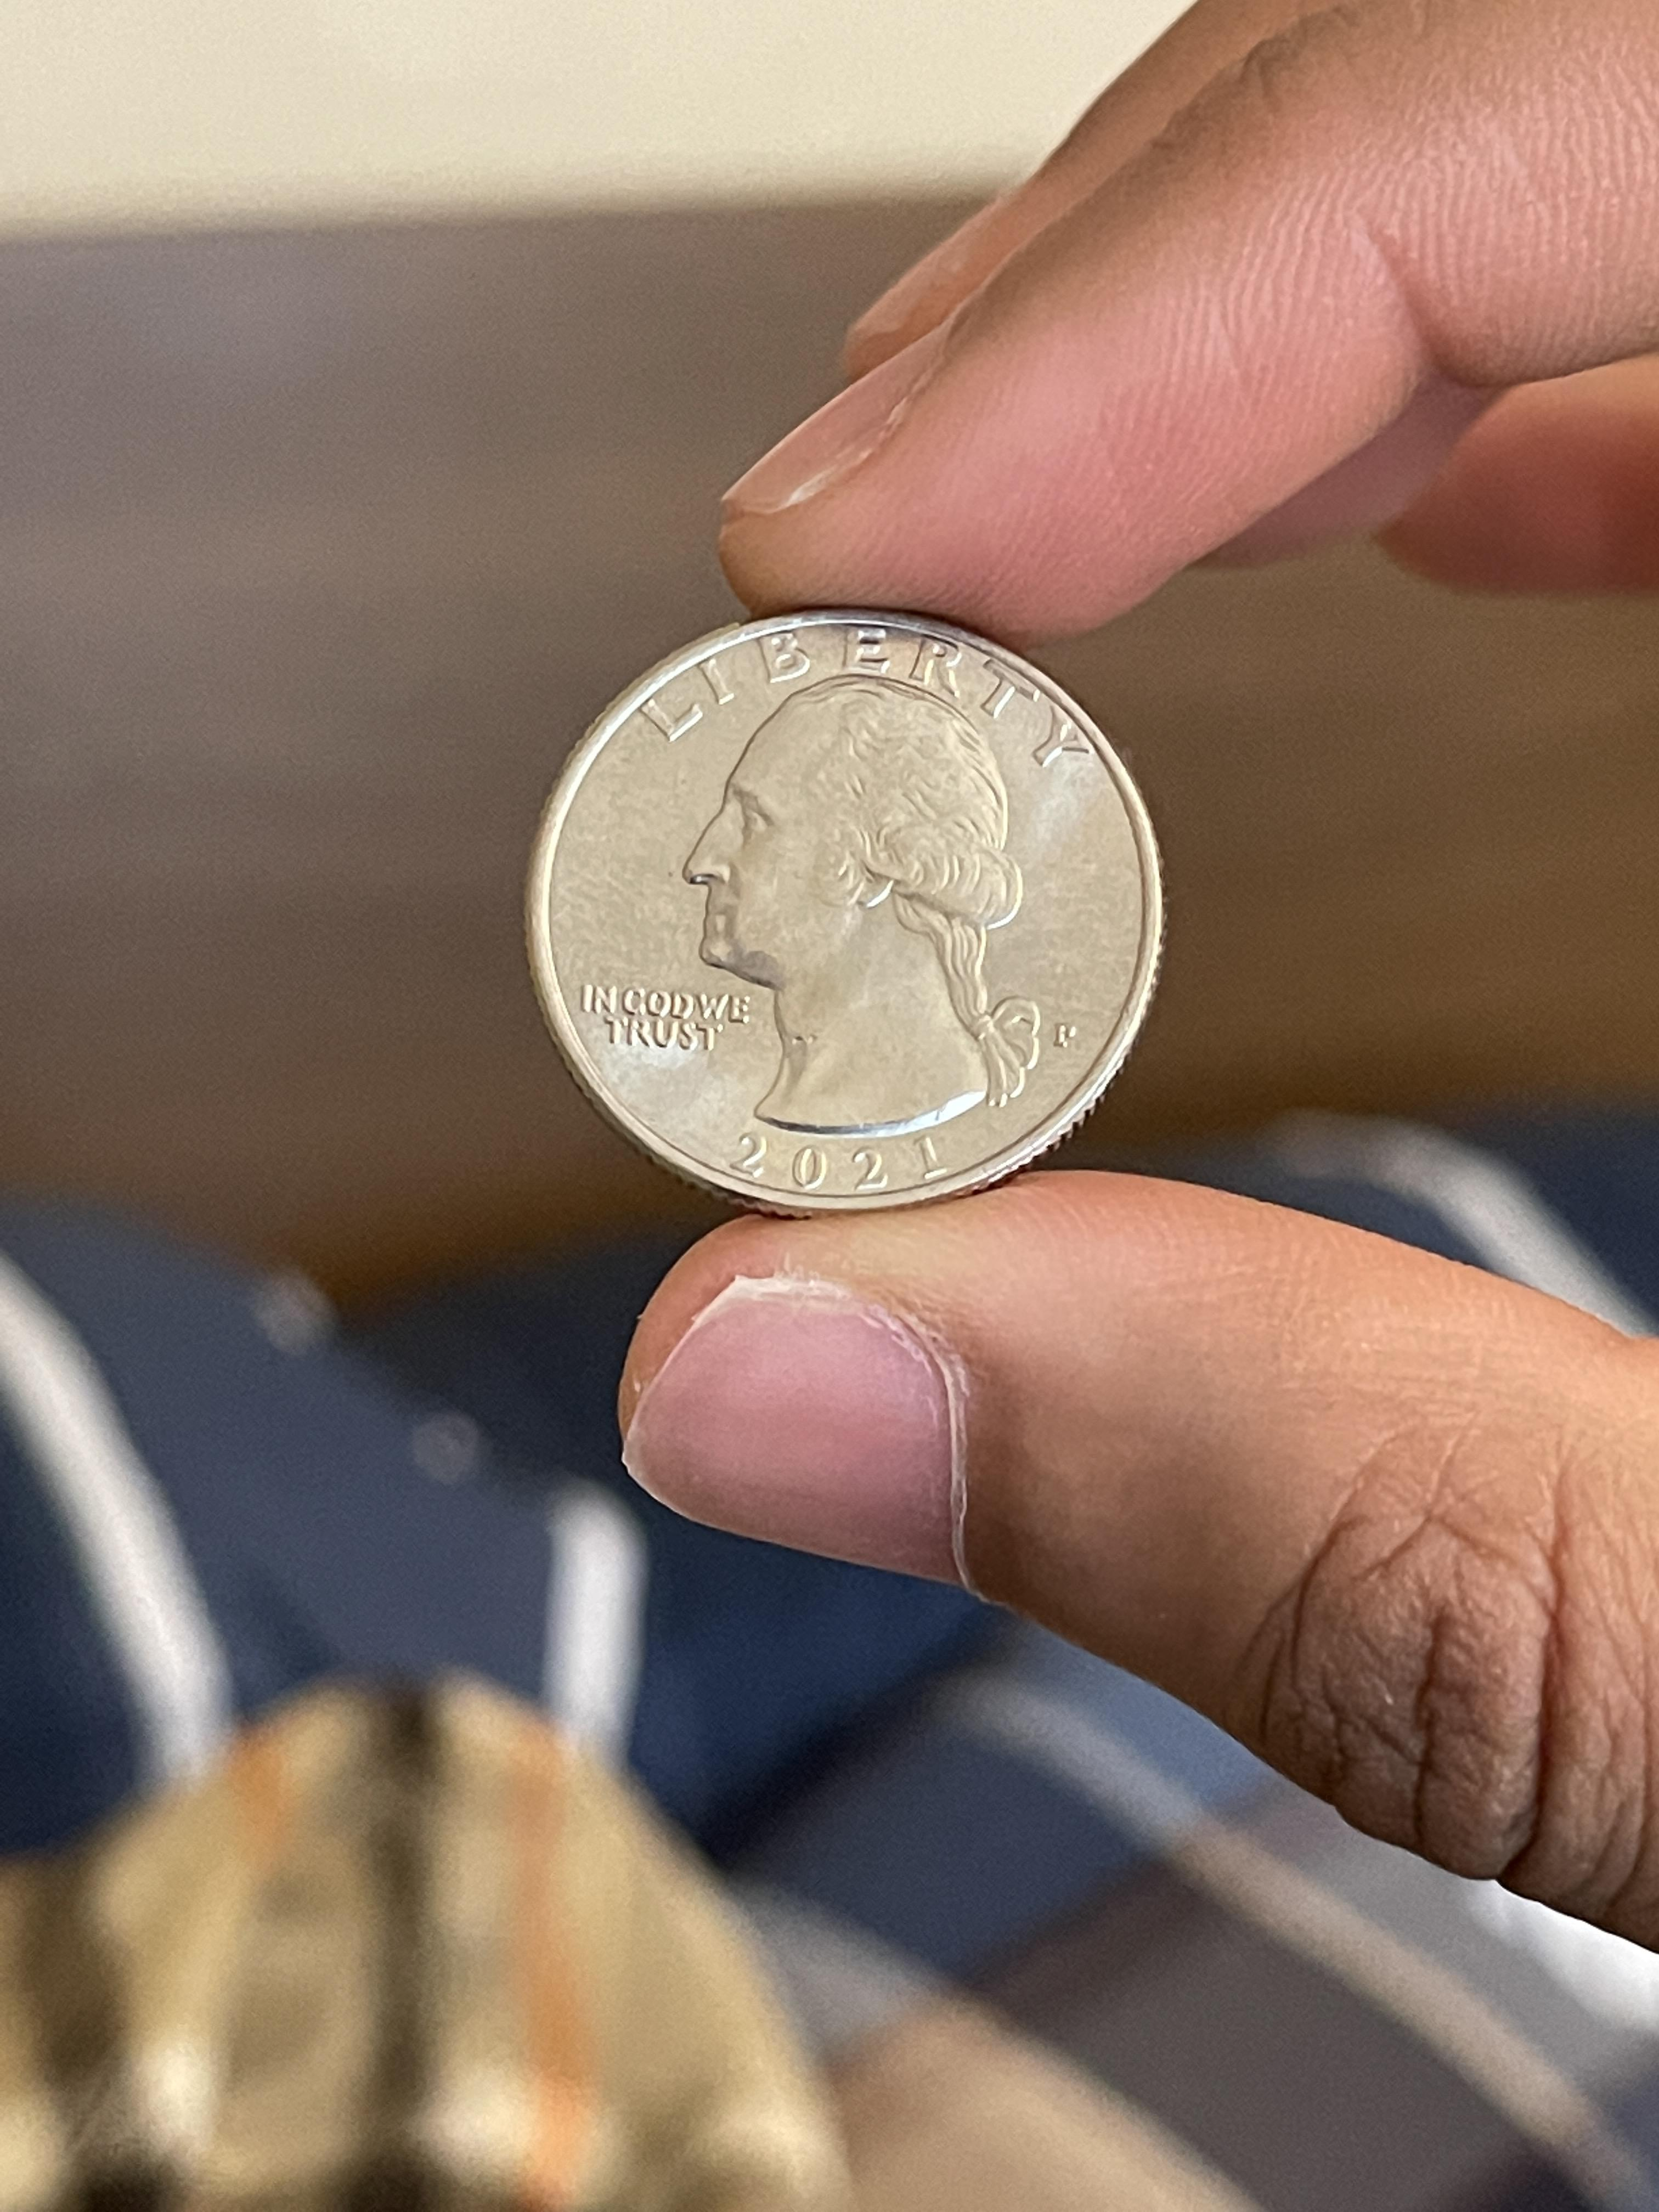Quarter: (514, 603, 1173, 1226)
